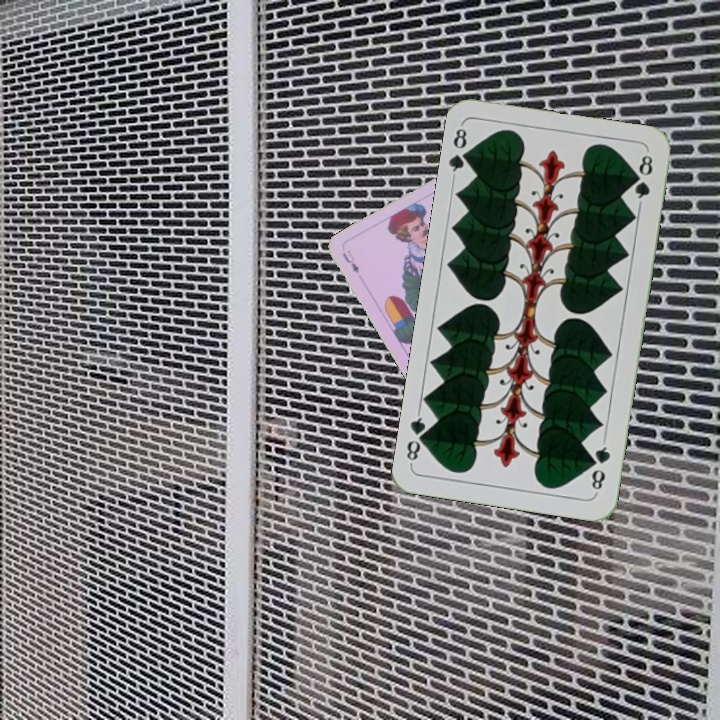EU: (338, 246, 361, 276)
G8: (445, 121, 476, 180), (587, 437, 613, 496)
